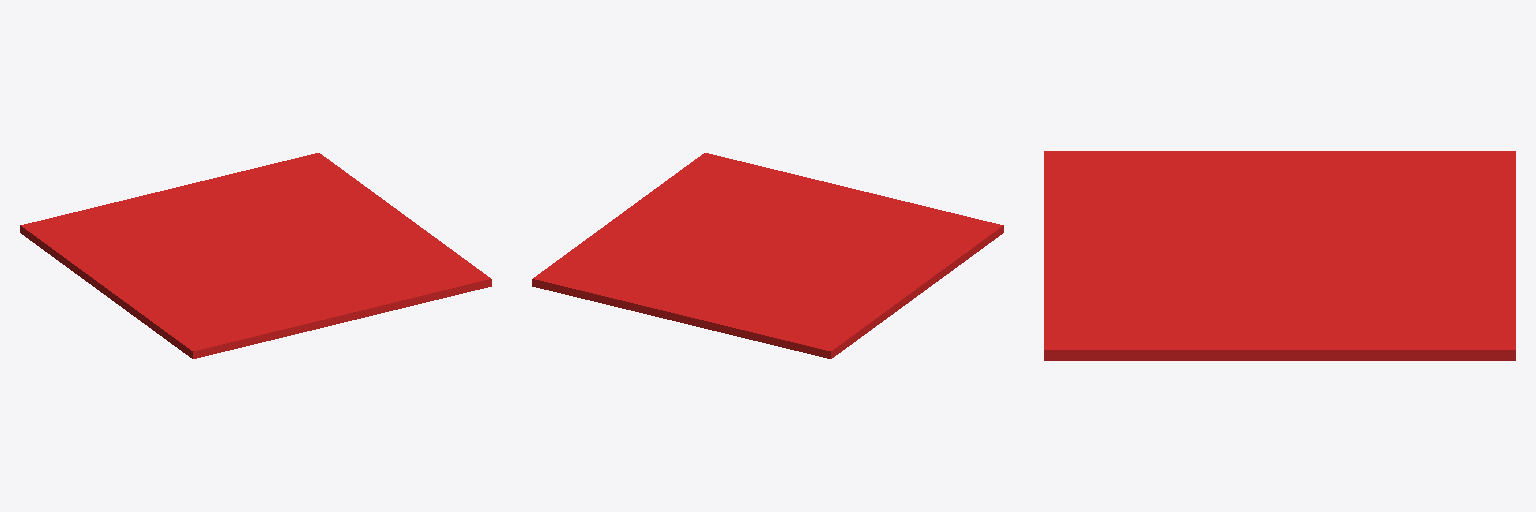
robot.urdf — ground:
<?xml version="1.0" ?>

<robot name="ground">
  <material name="Blue">
    <color rgba="0.2 0.2 0.9 1.0"/>
  </material>
  <material name="Green">
    <color rgba="0.2 0.9 0.2 1.0"/>
  </material>
  <material name="Red">
    <color rgba="0.9 0.2 0.2 1.0"/>
  </material>

  <link name="ground">
    <inertial>
      <mass value="0"/>
      <inertia ixx="0" ixy="0" ixz="0" iyy="0" iyz="0" izz="0"/>
      <origin xyz="0 0 0"/>
    </inertial>

    <visual>
      <geometry>
        <box size="2 2 0.05"/>
      </geometry>
      <material name="Red"/>
    </visual>

		<collision>
			<geometry>
				<box size="2 2 0.05"/>
			</geometry>
		</collision>

  </link>
</robot>

--- Render facts (derived) ---
3 views of the same robot in one strip: view 1: azimuth 30°, elevation 25°; view 2: azimuth 150°, elevation 25°; view 3: azimuth 270°, elevation 25° (orthographic).
Model ground with 1 links and 0 joints (none), rooted at ground, posed all joints at 0.
Links seen in each view (by area): view 1: ground; view 2: ground; view 3: ground.
Boxes of the visible links, x1,y1,x2,y2 form: ground: (20,153,491,358); ground: (532,153,1003,358); ground: (1044,151,1515,360).
Bounding box of the posed robot: 2 × 2 × 0.05 m (x, y, z).
Geometry: primitives only (box / cylinder / sphere), no mesh files.